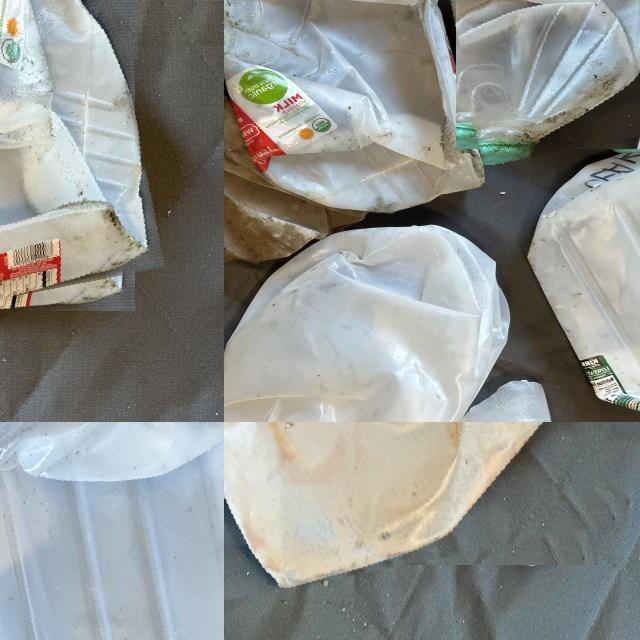milk-jug: (224, 422, 613, 583), (224, 220, 509, 422), (224, 0, 485, 209), (0, 0, 150, 329), (0, 422, 224, 640), (524, 147, 640, 422), (445, 0, 640, 157), (404, 375, 568, 422)
